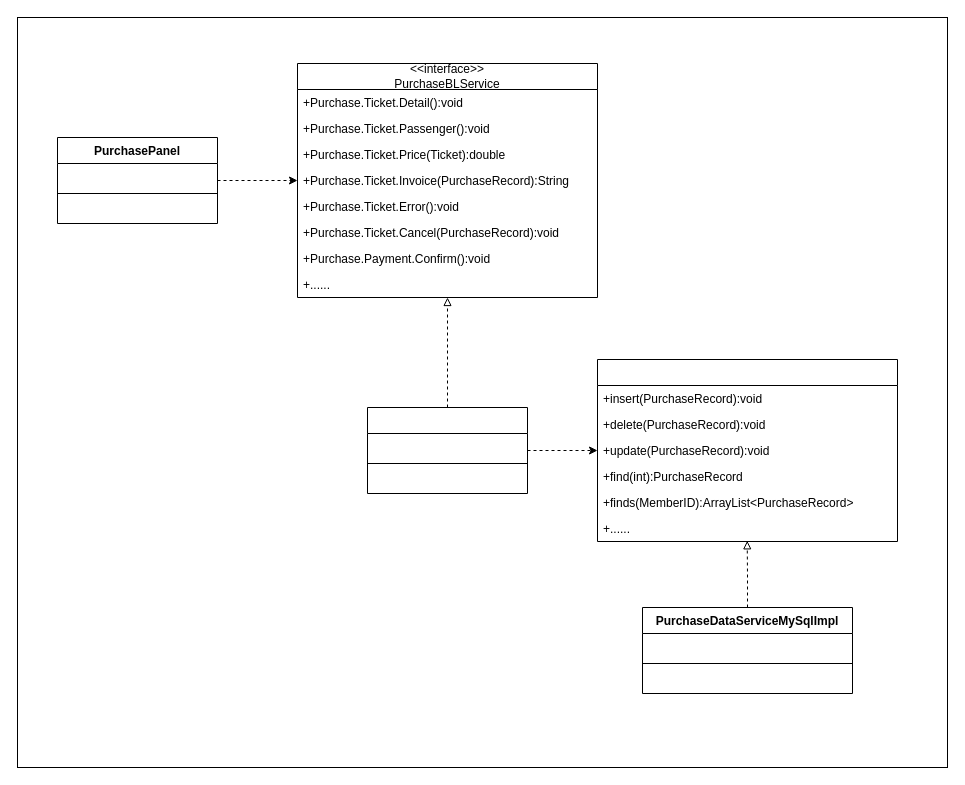
The diagram is 965 pixels wide and 785 high, and some of its shapes have lost their labels. The box of each missing label's shape, as (x1, y1, x2, y2) in pixels:
<<interface>> PurchaseDataService: (596, 358, 898, 542)
Purchase: (366, 406, 528, 494)
